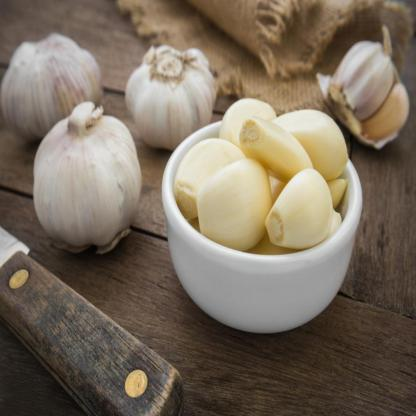garlic: (33, 105, 141, 246), (2, 35, 104, 142), (333, 34, 411, 151), (127, 45, 213, 147), (198, 159, 271, 251), (263, 168, 331, 246), (271, 110, 348, 178), (174, 143, 244, 214), (240, 120, 314, 179)
